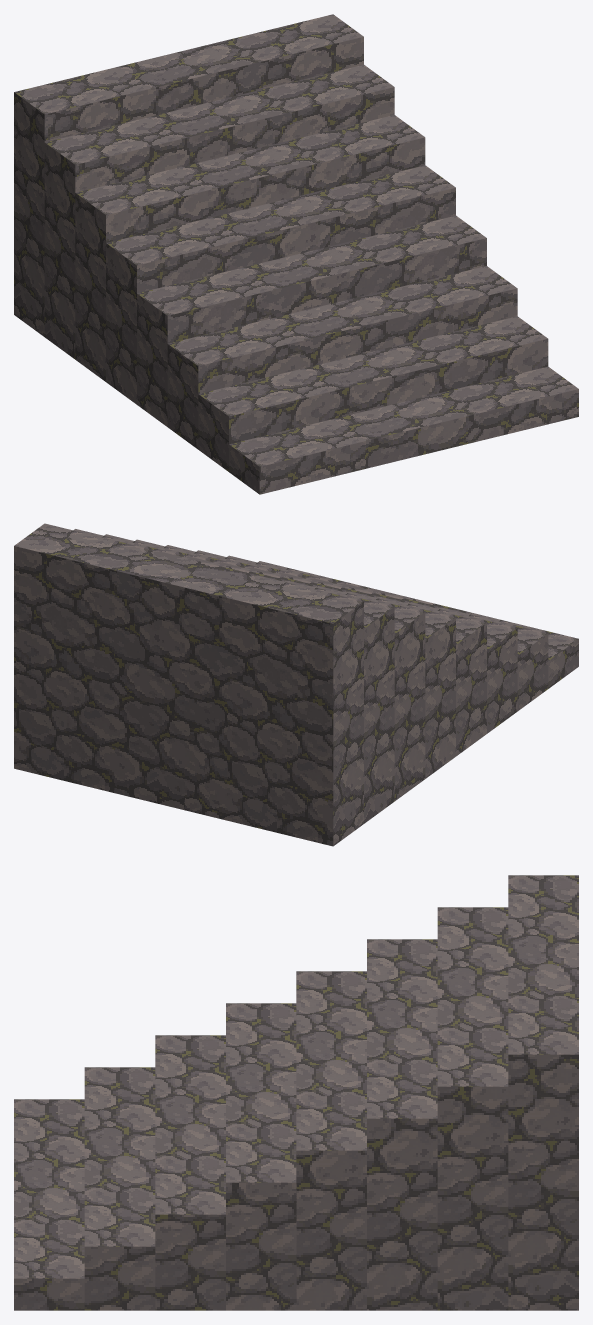
File: stairs_stone.glb
The picture shows the model from 3 angles, top to bottom: view 1: azimuth 30°, elevation 25°; view 2: azimuth 150°, elevation 25°; view 3: azimuth 270°, elevation 25°; orthographic projection. The views are drawn at different scales.
Parts seen in each view (by area): view 1: Step_0; view 2: Step_0; view 3: Step_0.
Part boxes in pixels (x1,y1,x2,y2): Step_0: (14, 14, 578, 494); Step_0: (14, 523, 578, 846); Step_0: (14, 875, 578, 1310).
Size of the model in its own units: 3 by 2 by 4.
Materials: 1 (1 with a texture image).
